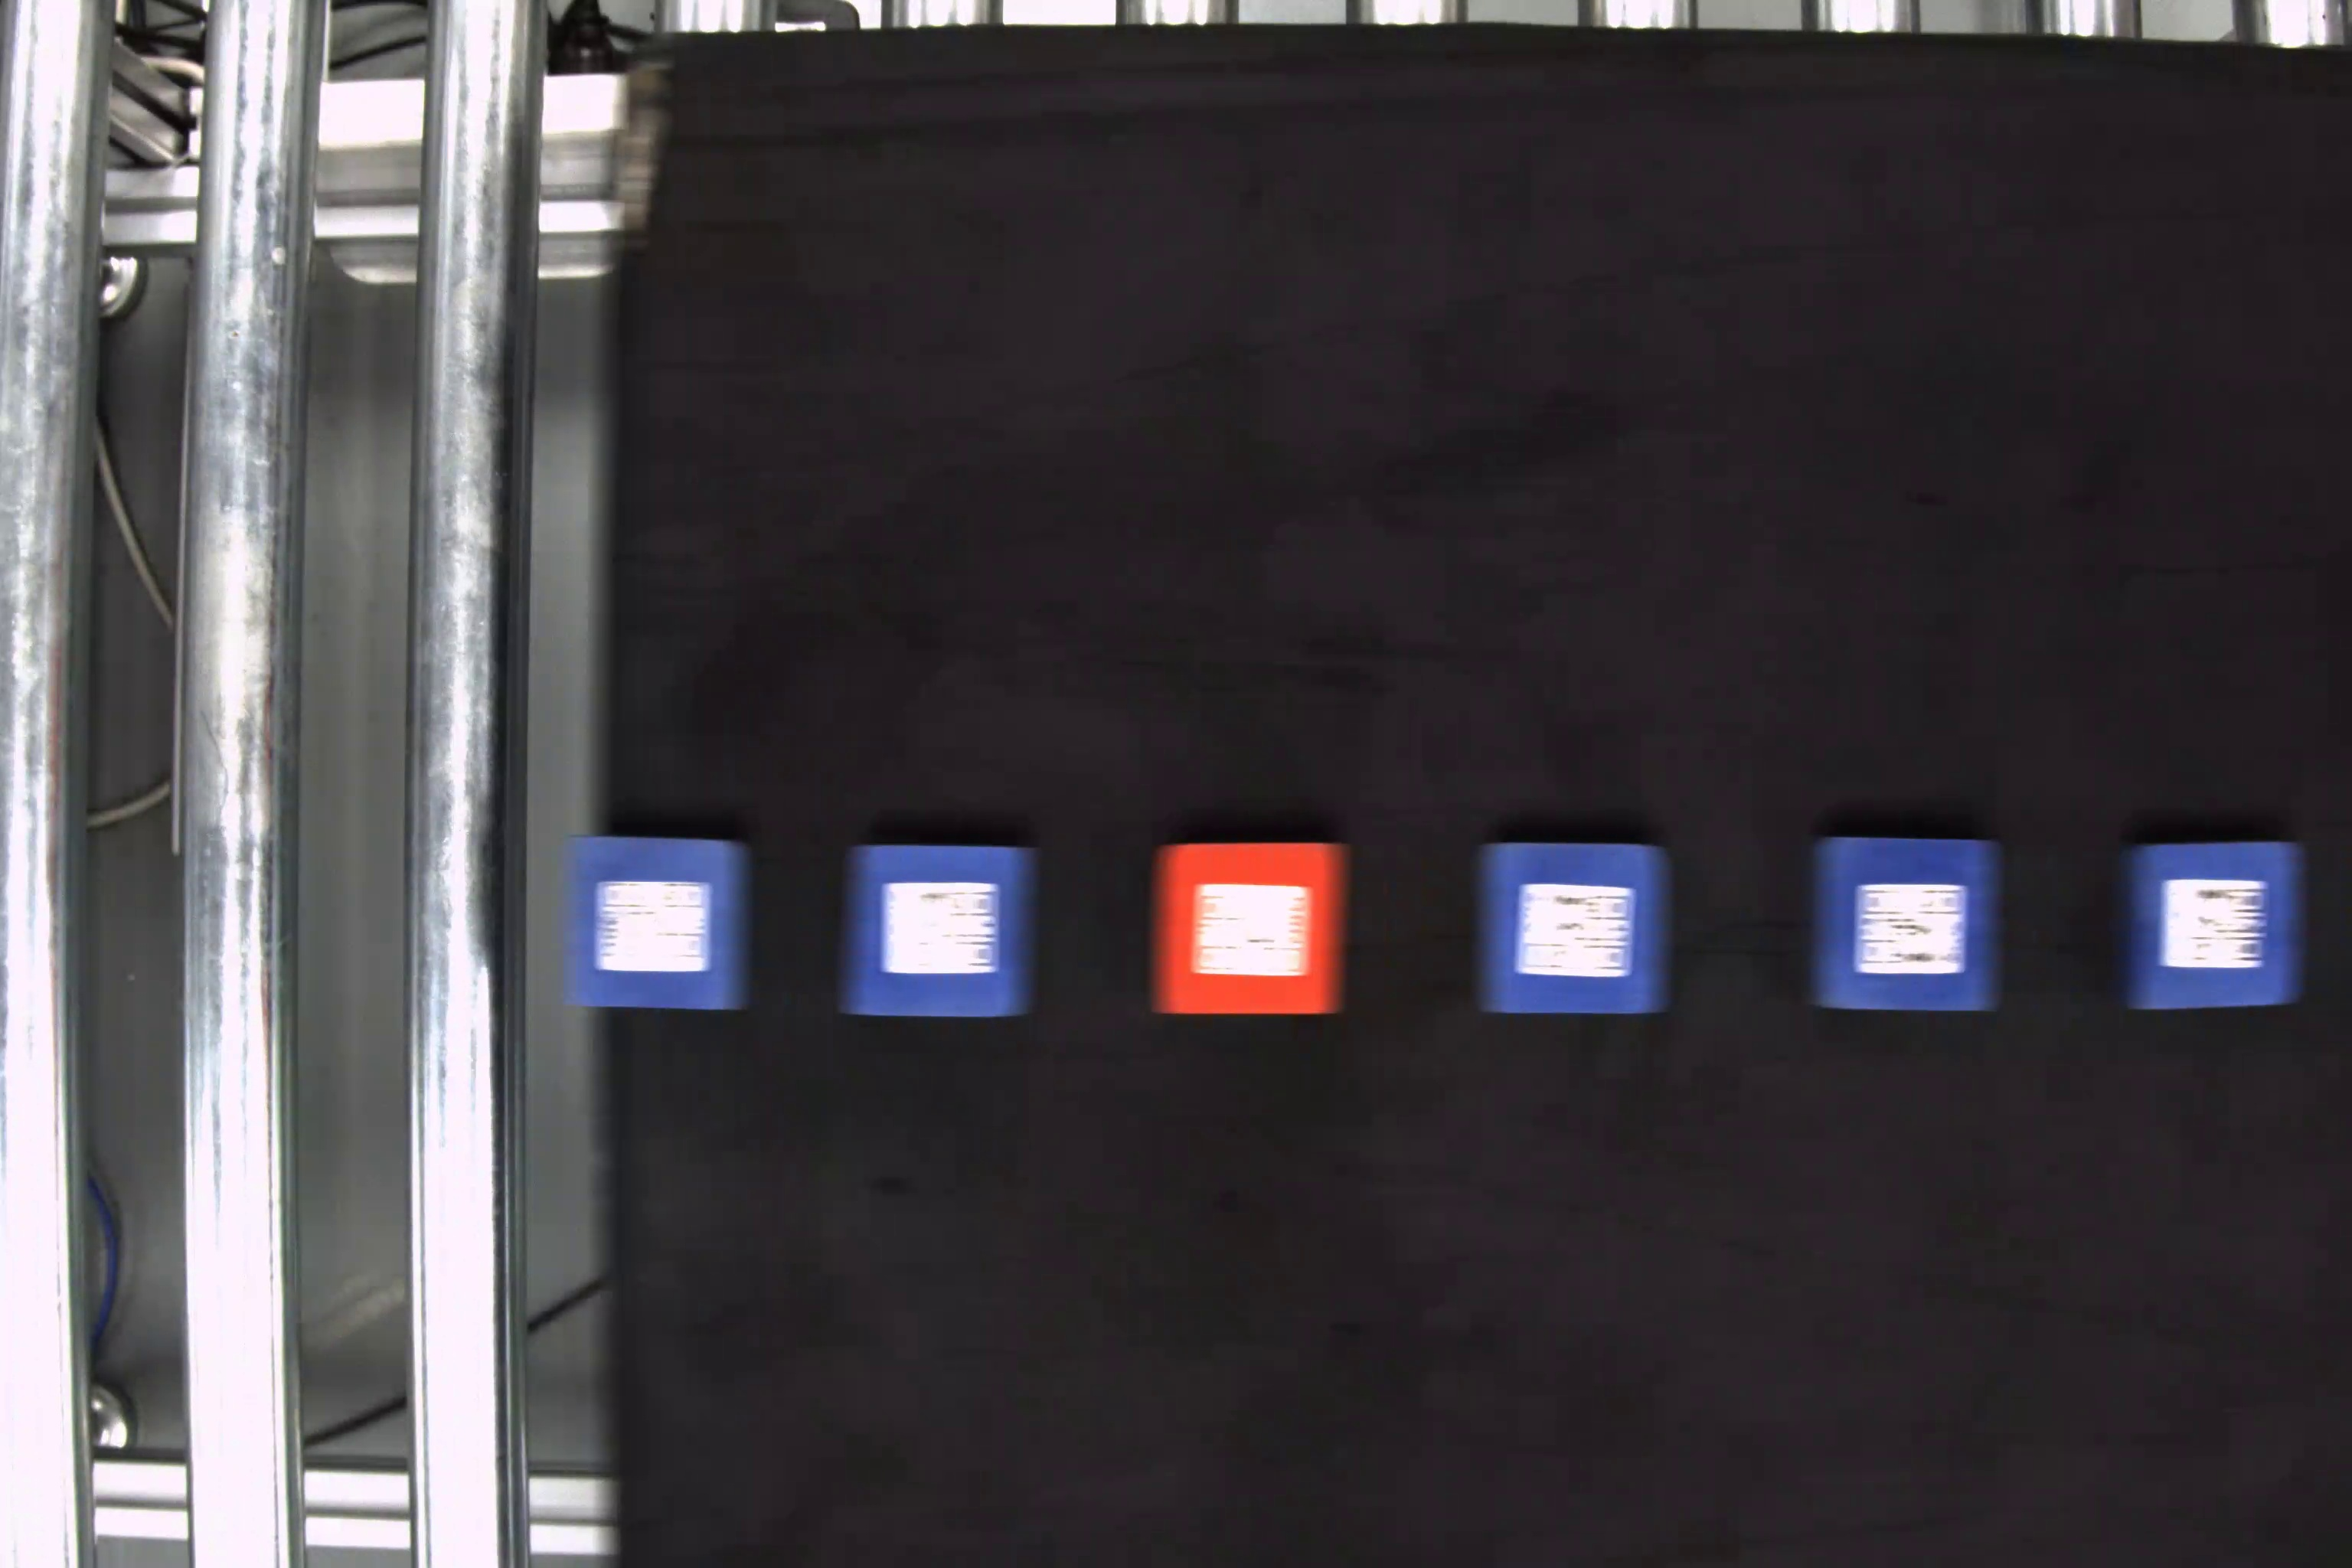wood: (842, 836, 1041, 1025), (1806, 826, 2007, 1011), (1151, 843, 1353, 1017), (1475, 843, 1675, 1017), (563, 836, 752, 1008), (2123, 843, 2303, 1004)
